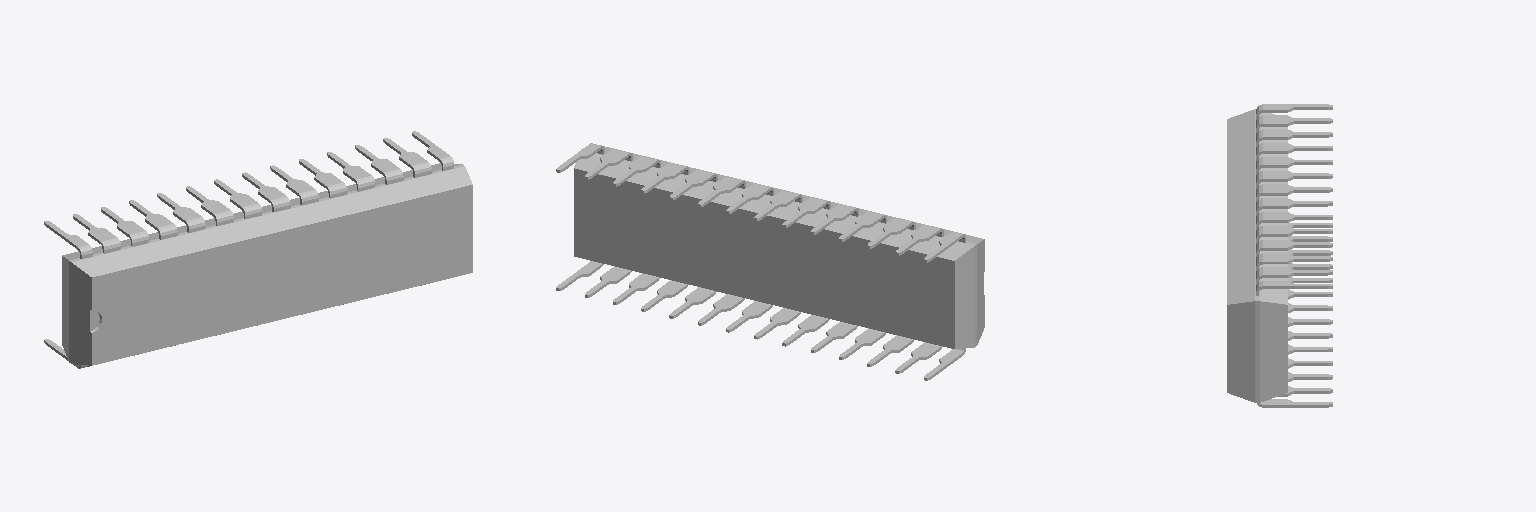
File: DIP-28P-M06.obj
3 views of the same model, side by side, from view 1: azimuth 30°, elevation 25°; view 2: azimuth 150°, elevation 25°; view 3: azimuth 270°, elevation 25° (orthographic).
Parts seen in each view (by area): view 1: Solid1; view 2: Solid1; view 3: Solid1.
Boxes of the visible parts, x1=… form: Solid1: x1=44, y1=131, x2=472, y2=368; Solid1: x1=556, y1=143, x2=984, y2=380; Solid1: x1=1227, y1=104, x2=1332, y2=407.
Size of the model in its own units: 35.4 by 10.41 by 8.2.